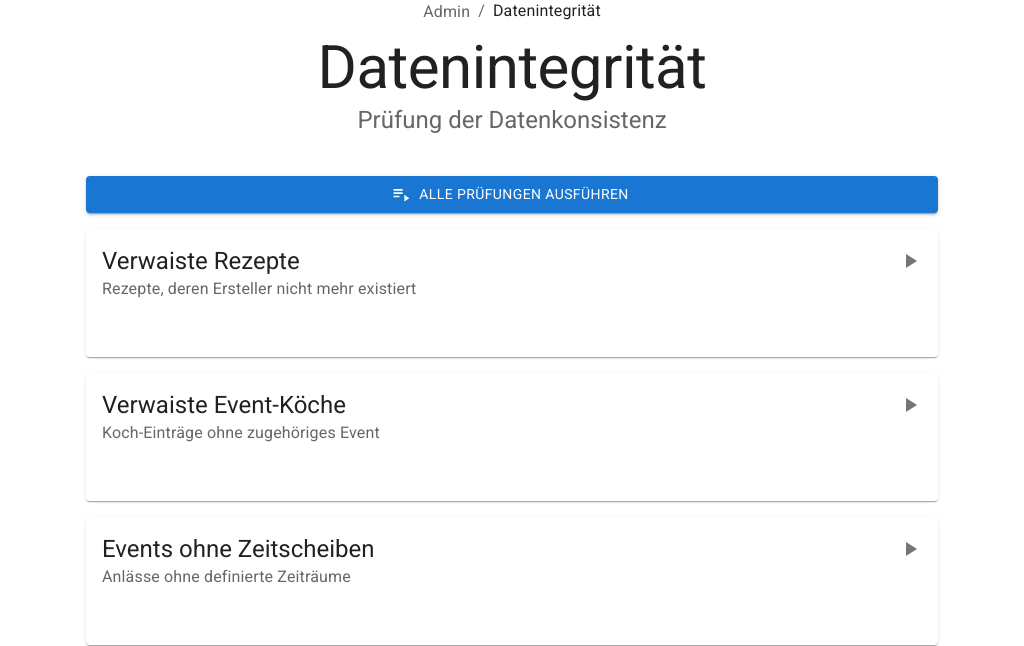
Test: DataIntegrityPage — Events ohne Zeitscheiben › Einzellöschen eines Anlasses mit Inhalt: Warnung im Dialog, only_empty=false
Click the button named "Events ohne Zeitscheiben ausführen". click: (910, 549)
box: [890,529,930,569]
(page scrolled)
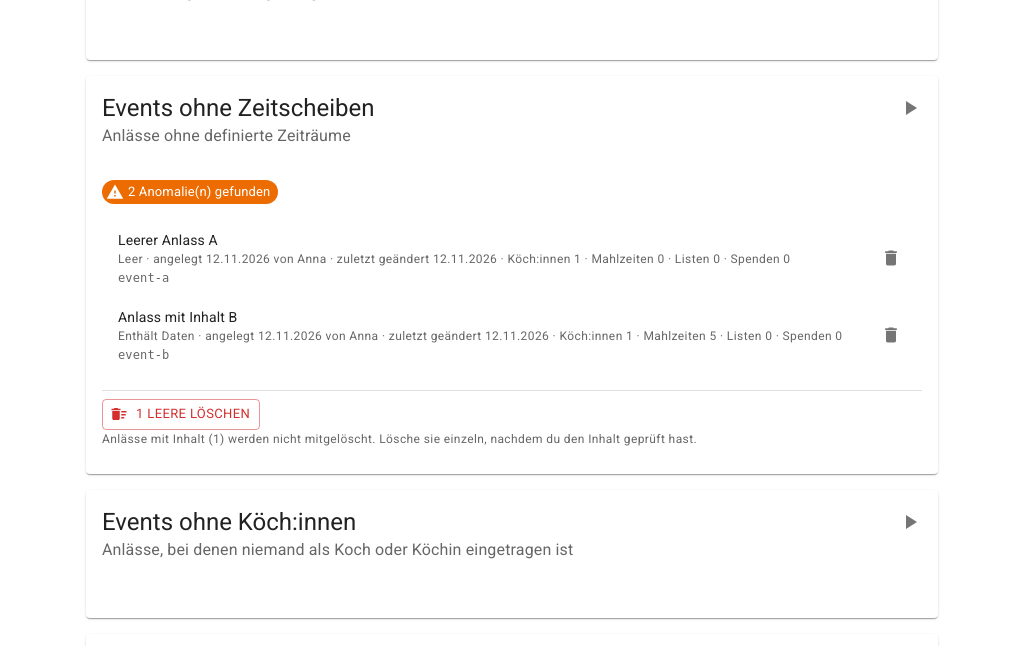
Expected: the text "Anlass mit Inhalt B" is shown, [118,309,237,325]
Click the button named "Löschen" in the row of "Anlass mit Inhalt B". click: (891, 335)
box: [876,320,906,350]
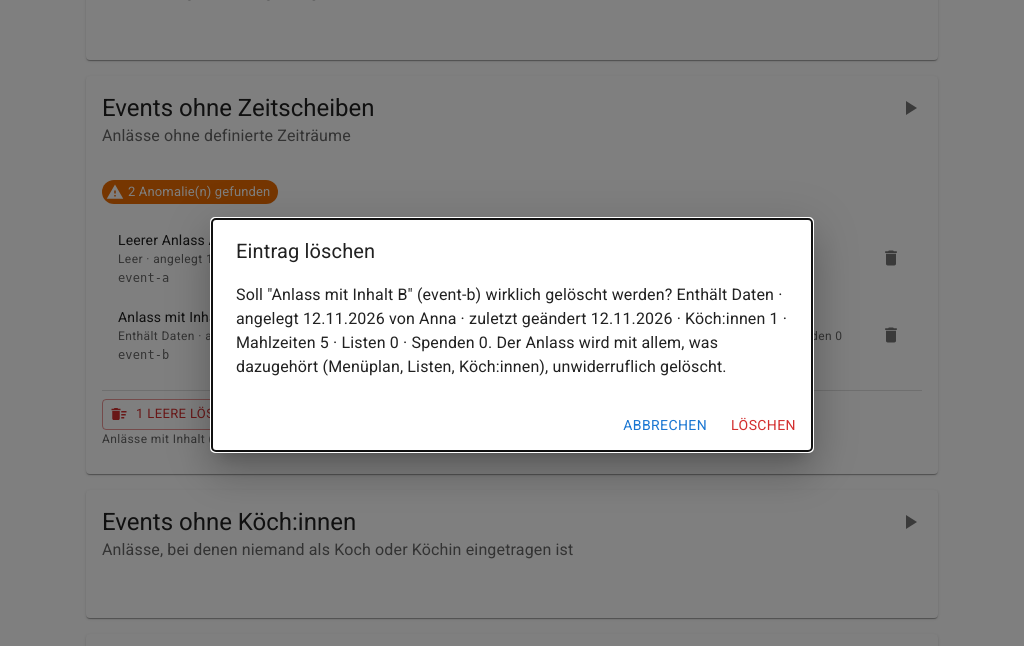
Expected: the text "unwiderruflich gelöscht" is shown, [236,285,787,376]
Click the button "Löschen". click: (764, 425)
box: [723,407,804,443]
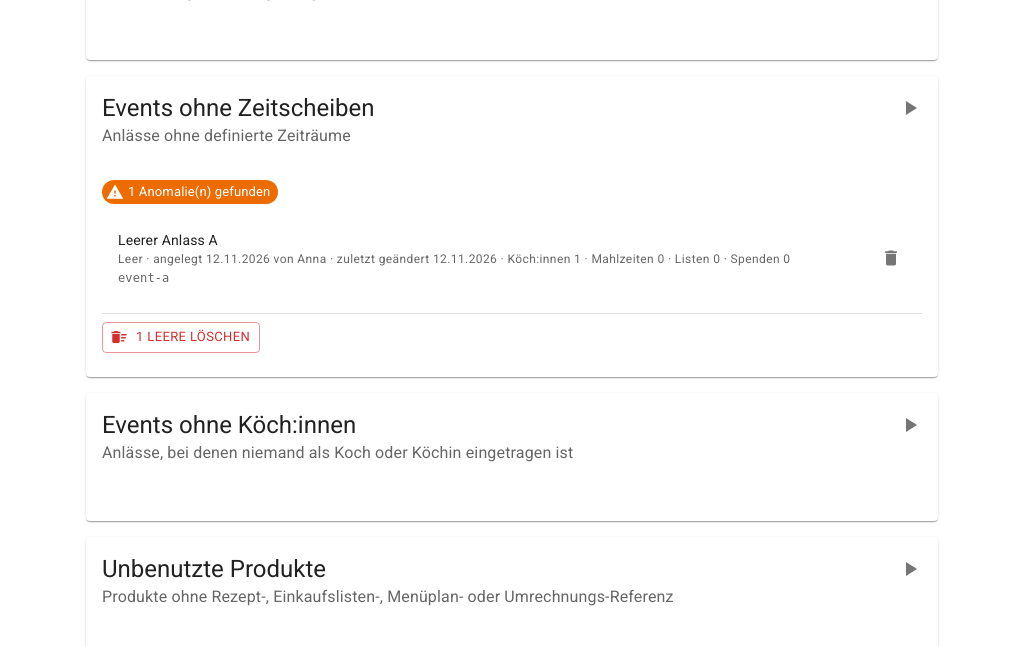
Expected: the text "Anlass mit Inhalt B" is gone
